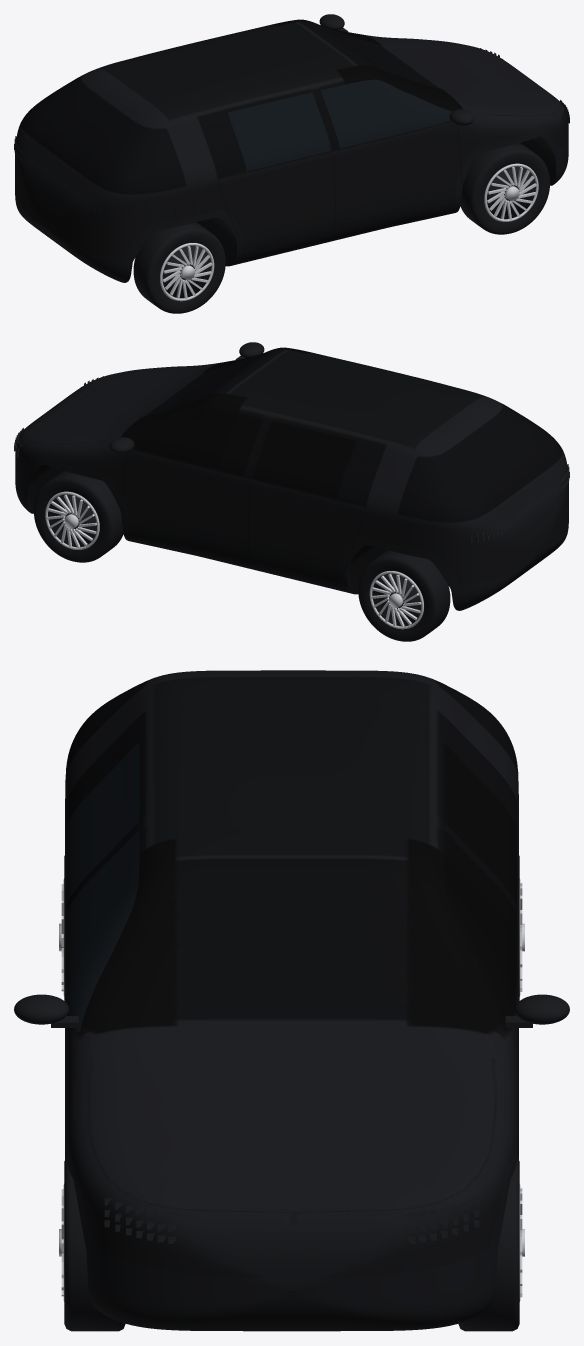
File: ioniq5_black.glb
3 views of the same model, one above another, from view 1: azimuth 30°, elevation 25°; view 2: azimuth 150°, elevation 25°; view 3: azimuth 270°, elevation 25° (orthographic). The views are drawn at different scales.
Parts seen in each view (by area): view 1: body, wheel_rr, wheel_fr, window_fr, window_rr, lamp_tail; view 2: body, wheel_rl, wheel_fl, lamp_tail; view 3: body, window_fr, window_rr, wheel_fl, wheel_fr, lamp_head, mirror_l, mirror_r.
Part boxes in pixels (bbox=[...]): body: bbox=[15, 19, 568, 282]; wheel_rr: bbox=[133, 222, 225, 313]; wheel_fr: bbox=[460, 143, 549, 234]; window_fr: bbox=[320, 79, 451, 148]; window_rr: bbox=[227, 92, 331, 171]; lamp_tail: bbox=[14, 136, 112, 215]; body: bbox=[15, 347, 568, 610]; wheel_rl: bbox=[358, 550, 450, 641]; wheel_fl: bbox=[34, 471, 123, 562]; lamp_tail: bbox=[471, 464, 569, 543]; body: bbox=[65, 670, 518, 1331]; window_fr: bbox=[66, 830, 139, 1032]; window_rr: bbox=[66, 741, 139, 906]; wheel_fl: bbox=[458, 1158, 524, 1331]; wheel_fr: bbox=[59, 1158, 125, 1331]; lamp_head: bbox=[104, 1198, 479, 1243]; mirror_l: bbox=[505, 994, 569, 1027]; mirror_r: bbox=[14, 994, 78, 1027].
Bounding box in the file's own units: 4.84 × 1.68 × 2.41.
Materials: 9 (1 with a texture image).
